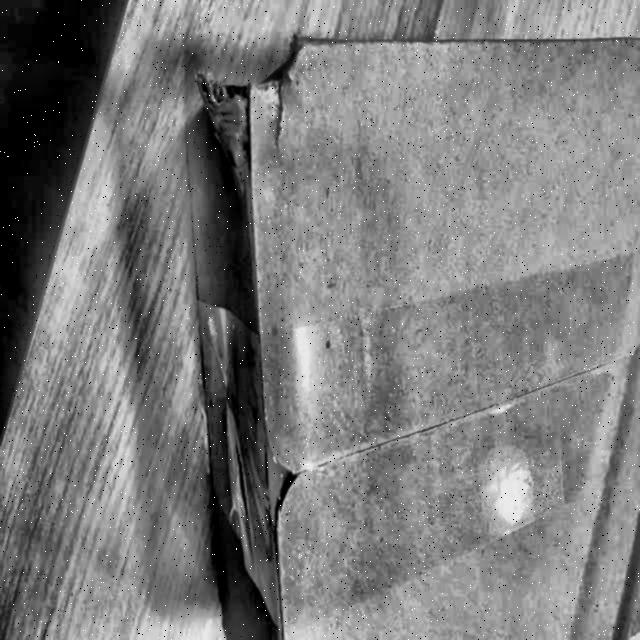box: (164, 19, 640, 638)
hole: (194, 38, 305, 115)
